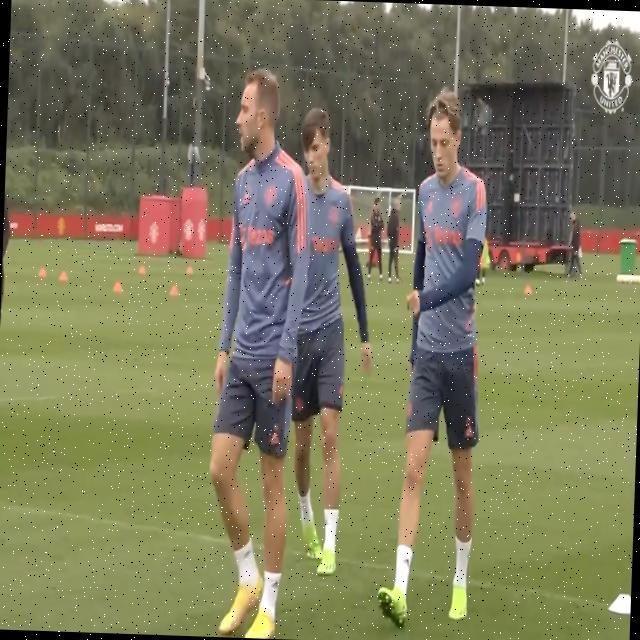Adidas: (269, 428, 281, 446), (464, 422, 475, 441), (240, 189, 251, 206)
